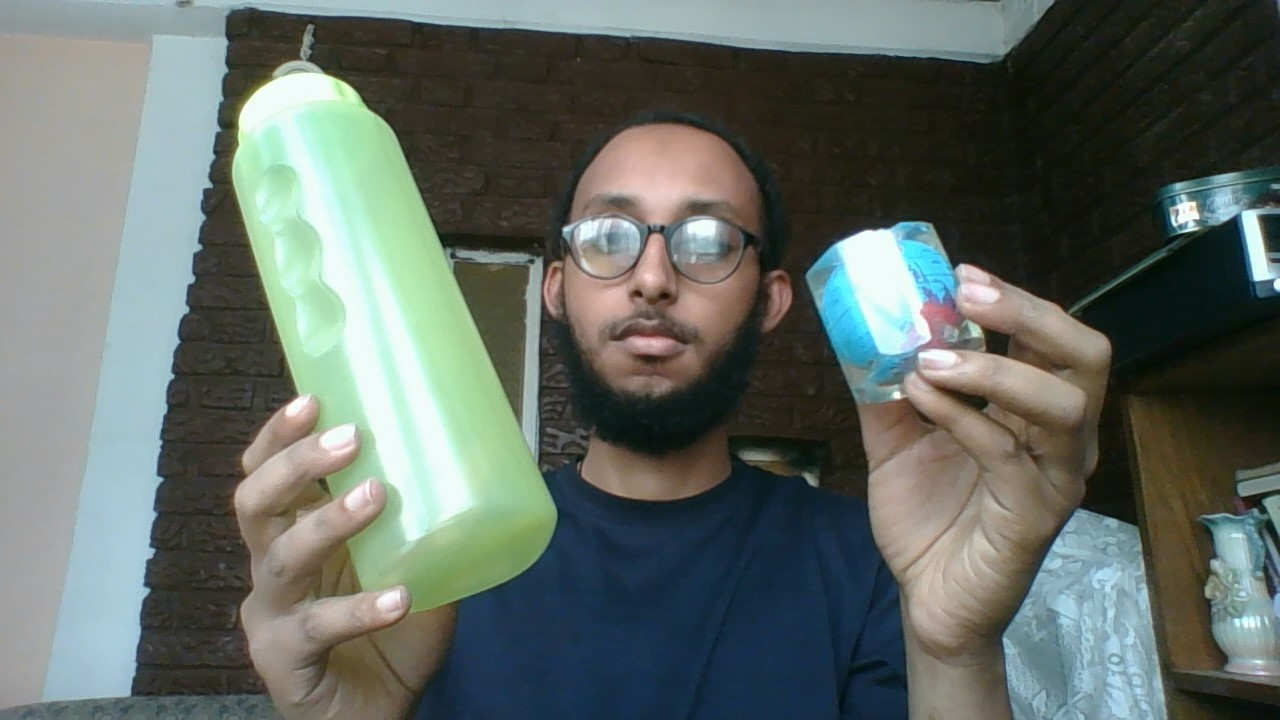Water_bottle: (224, 62, 567, 626)
world_globe: (800, 212, 990, 409)
